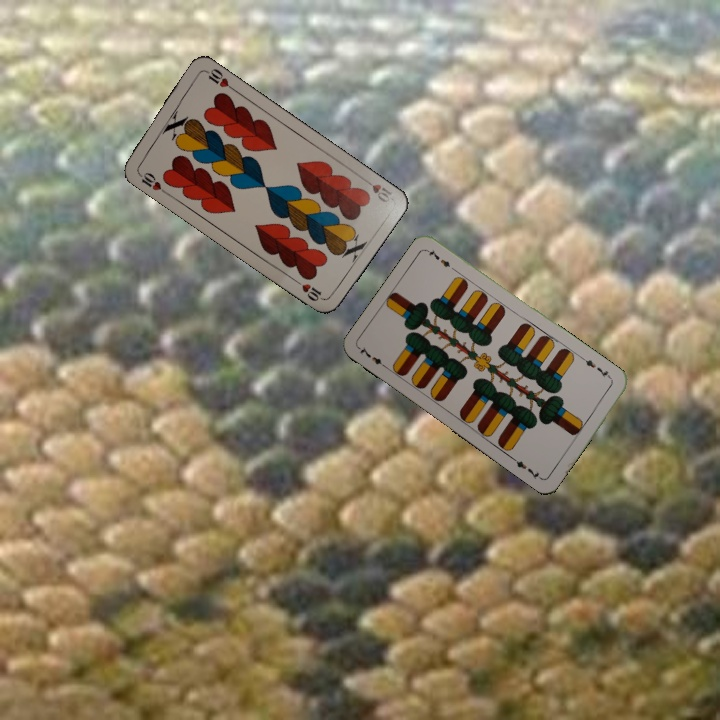E7: (355, 342, 391, 372), (579, 354, 615, 382)
H10: (359, 174, 395, 205), (134, 168, 169, 196)
